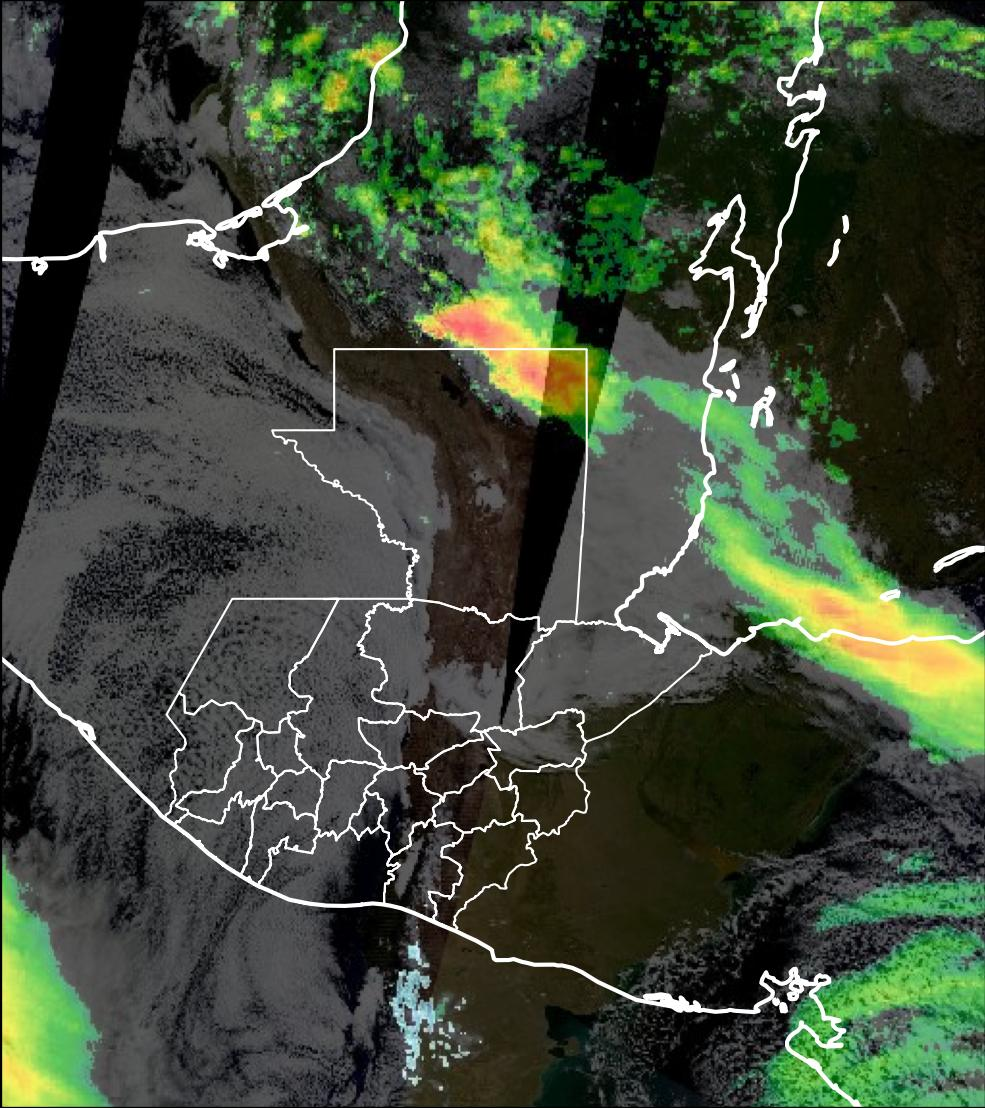precipitacion: (424, 287, 647, 448), (806, 580, 985, 709)
